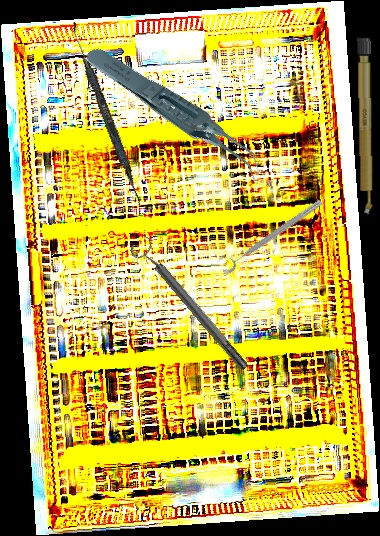Fixation Ring: (126, 232, 255, 378), (215, 191, 325, 276)
Scalpel Handle: (356, 35, 374, 219)
Spatula Surgical: (64, 21, 148, 206)
Tissue Forceps: (82, 16, 268, 212)
